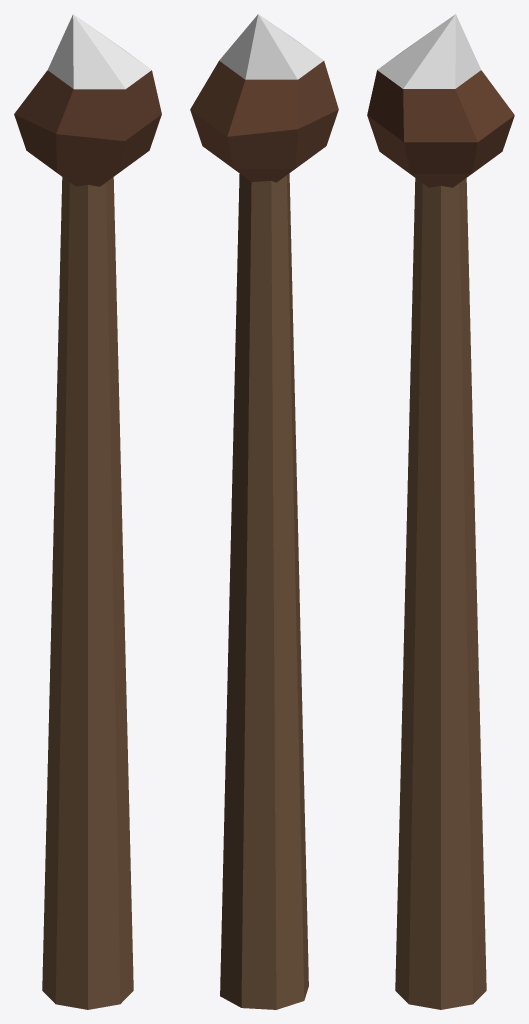
Rendered from Paintbrush.fbx.
3 renders of one model, left to right at view 1: azimuth 90°, elevation 25°; view 2: azimuth 150°, elevation 25°; view 3: azimuth 270°, elevation 25°, orthographic.
Visible parts, largest first — view 1: Stick, Sphere, Tip; view 2: Stick, Sphere, Tip; view 3: Stick, Sphere, Tip.
Part boxes in pixels (bbox=[...]): Stick: bbox=[42, 177, 133, 1009]; Sphere: bbox=[14, 70, 161, 186]; Tip: bbox=[48, 14, 151, 89]; Stick: bbox=[220, 173, 308, 1009]; Sphere: bbox=[190, 61, 338, 182]; Tip: bbox=[219, 14, 323, 79]; Stick: bbox=[395, 178, 486, 1009]; Sphere: bbox=[367, 70, 514, 187]; Tip: bbox=[377, 14, 480, 88].
Bounding box in the file's own units: 129 × 1087 × 149.
1 material, 1 textured.
